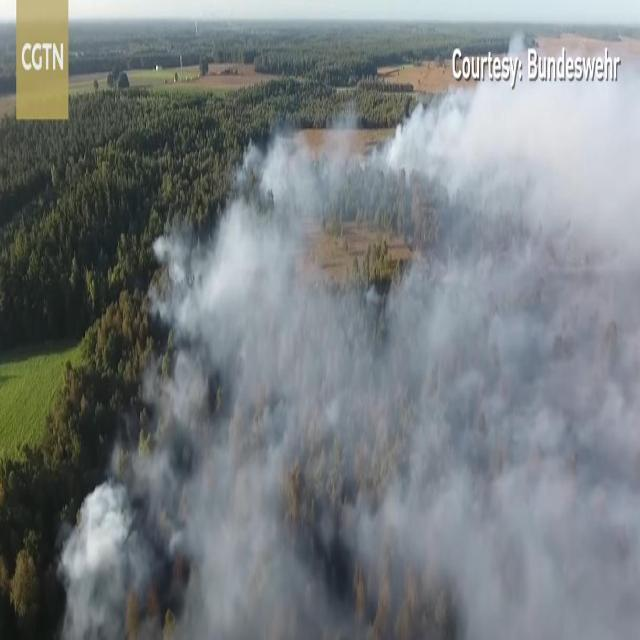Smoke: (380, 86, 626, 614), (148, 145, 361, 636), (53, 488, 145, 631)
